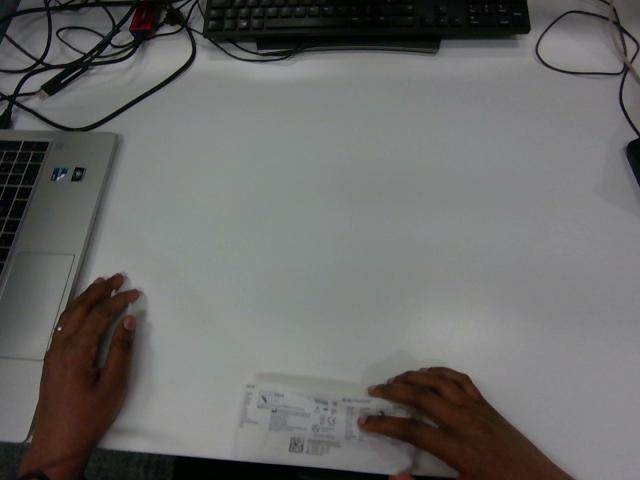syringe: (236, 383, 415, 473)
